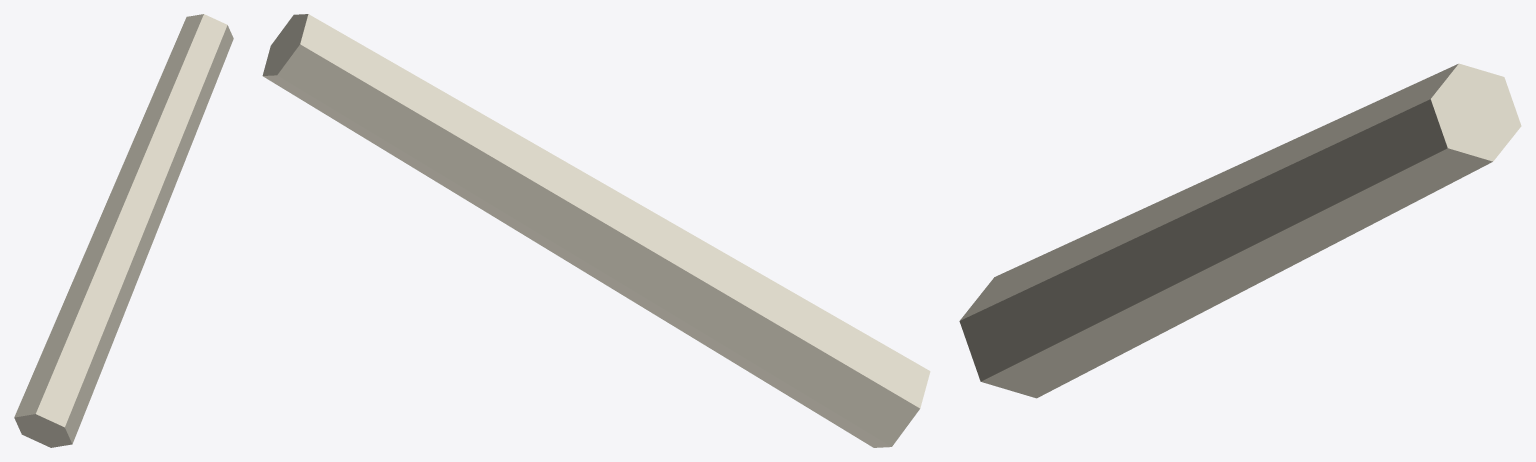
File: rm2_leg_rl_femur.obj
3 renders of one model, left to right at view 1: azimuth 30°, elevation 25°; view 2: azimuth 150°, elevation 25°; view 3: azimuth 270°, elevation 25°, orthographic. The views are drawn at different scales.
Visible parts, largest first — view 1: rm2_leg_rl_femur; view 2: rm2_leg_rl_femur; view 3: rm2_leg_rl_femur.
Part boxes in pixels (x1,y1,x2,y2): rm2_leg_rl_femur: [14, 14, 233, 447]; rm2_leg_rl_femur: [262, 14, 930, 447]; rm2_leg_rl_femur: [959, 63, 1521, 398].
Bounding box in the file's own units: 0.4802 × 0.4225 × 0.3665.
